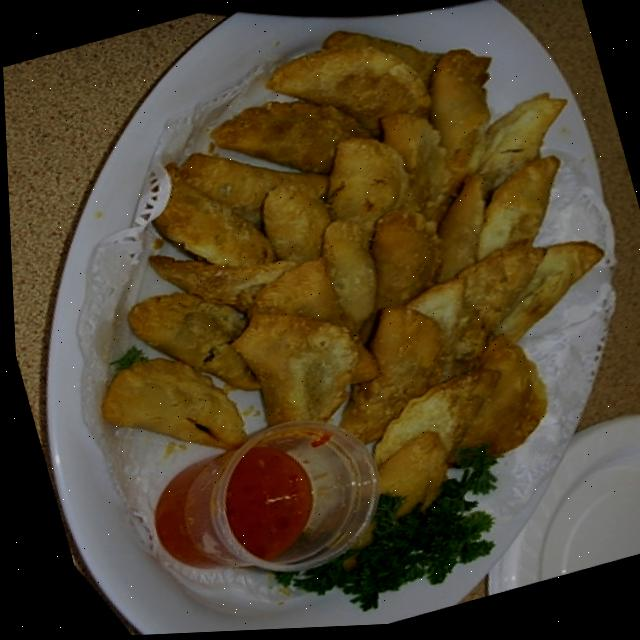炸货点心: (2, 0, 640, 640)
